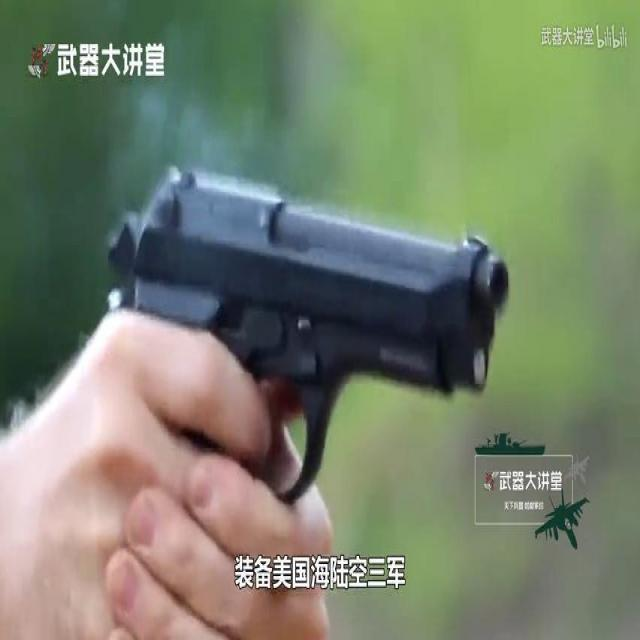Handgun: (93, 136, 513, 602)
